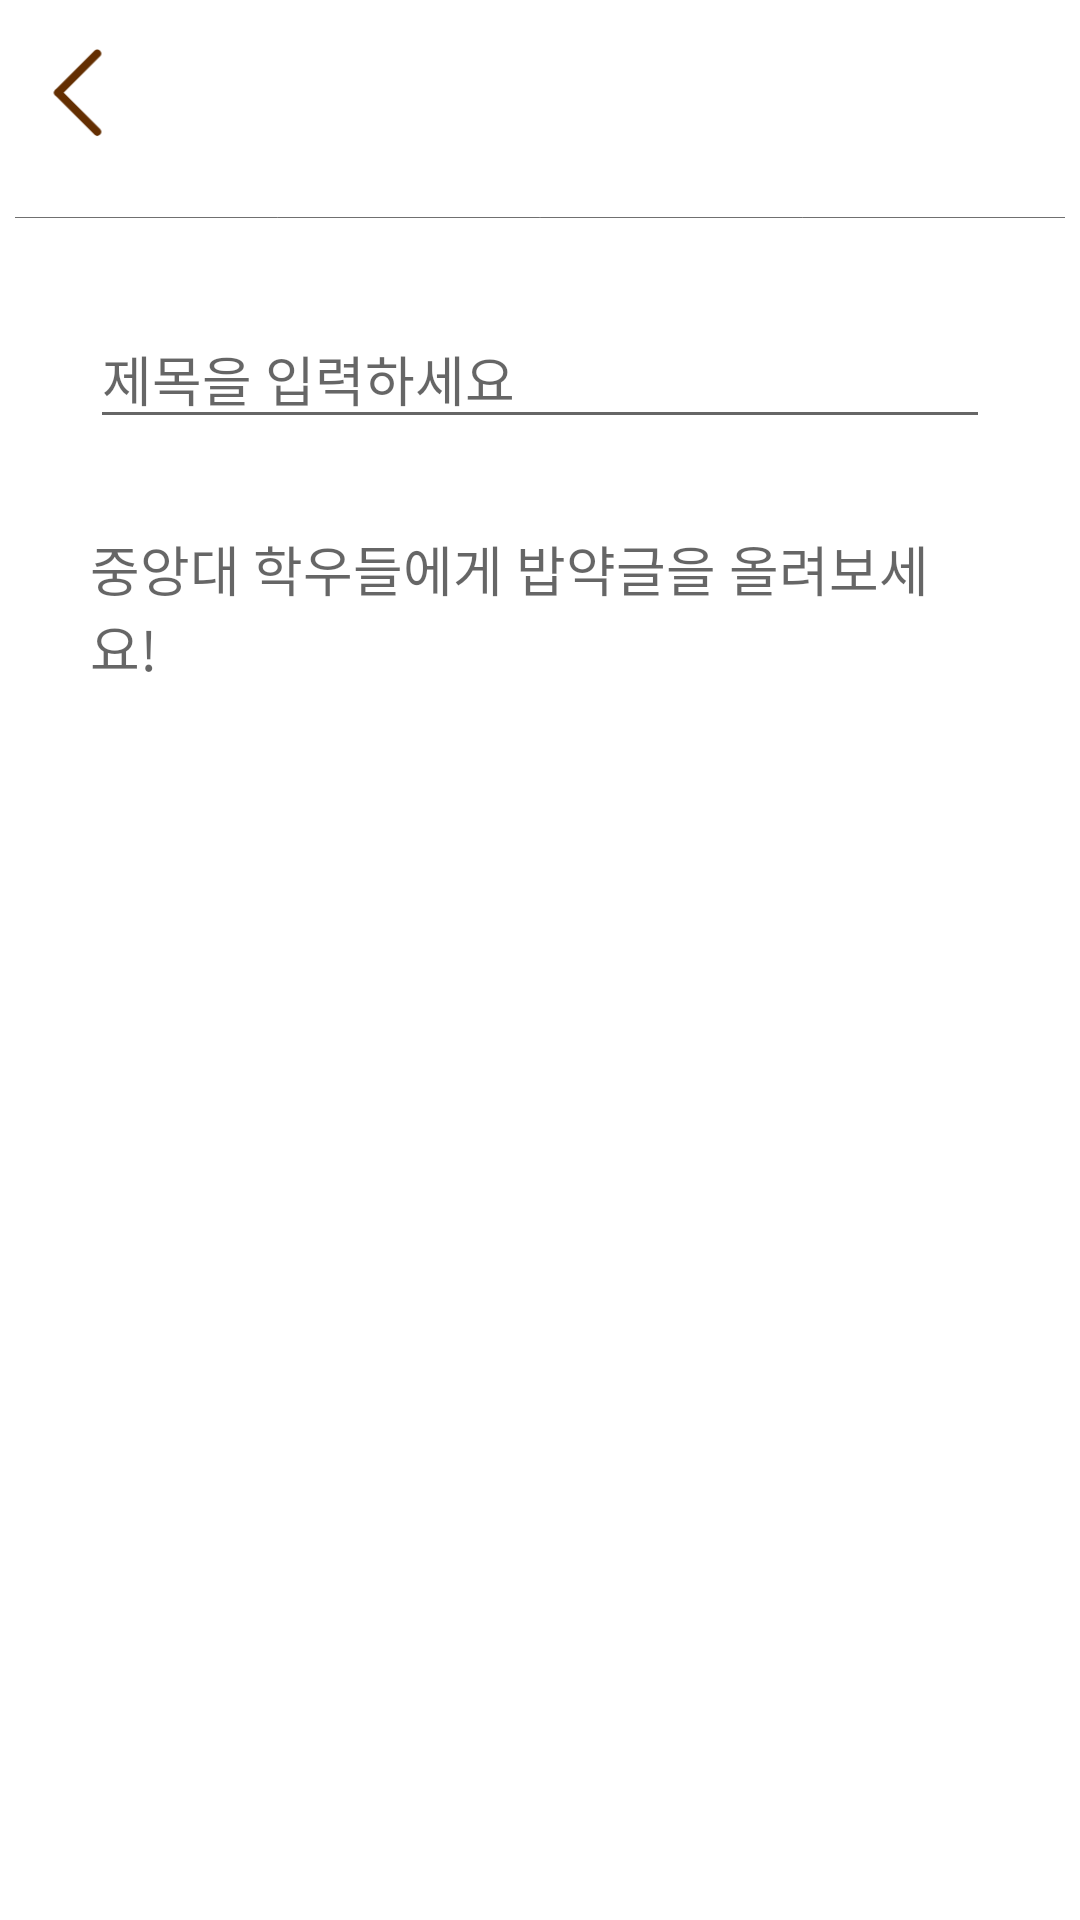

Locate icon controls on the screen. Image size 1080px x 1920px, boxes as bbox(x1, y1, x2, y2).
back: bbox(53, 49, 102, 136)
